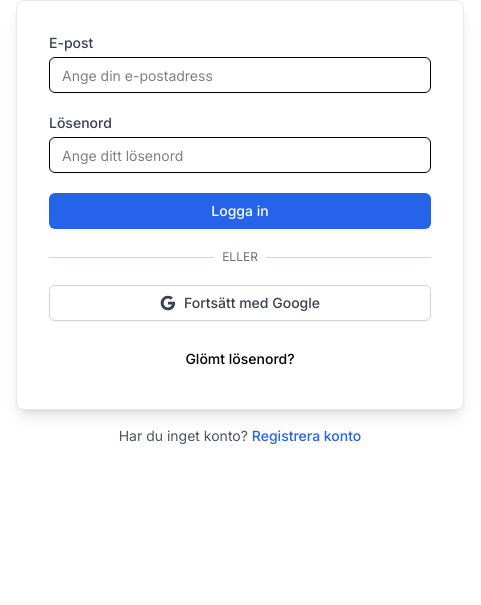
Test: LoginForm Error Handling › shows forgot password form when user clicks forgot password button in error
The image size is (481, 605).
// Fill in form and submit to trigger error
In the field labelled "E-post": (240, 75) [49, 57, 431, 93], type "test@example.com"
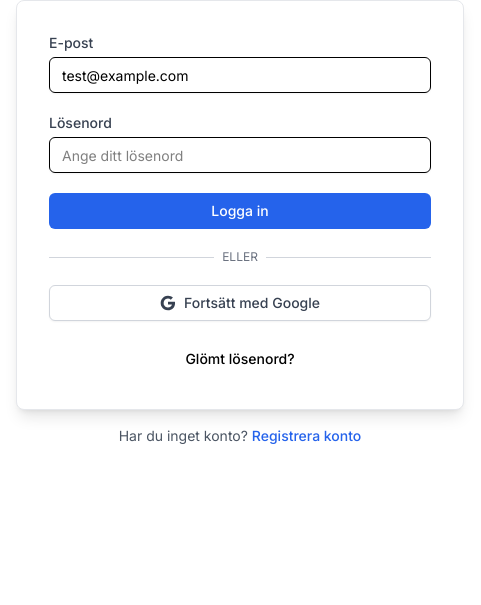
In the password field labelled "Lösenord": (240, 155) [49, 137, 431, 173], type "wrongpassword"
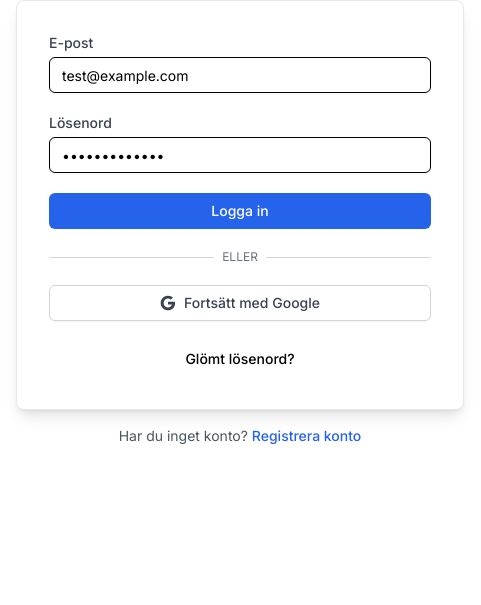
Click the button "Logga in": (240, 211) [49, 193, 431, 229]
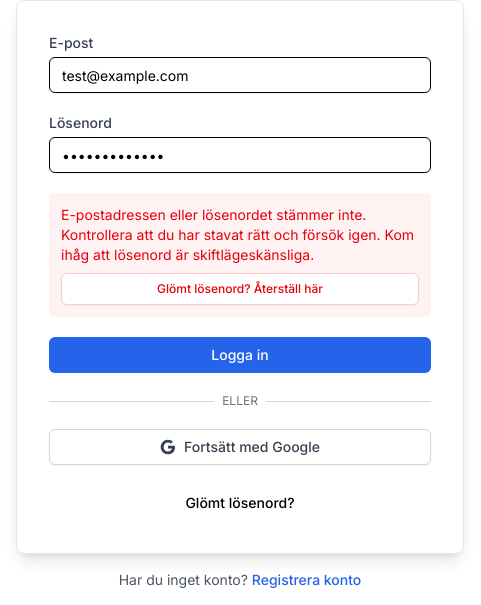
Now the button "Glömt lösenord? Återställ här" is shown
// Click forgot password button
Click the button "Glömt lösenord? Återställ här": (240, 289) [61, 273, 419, 305]
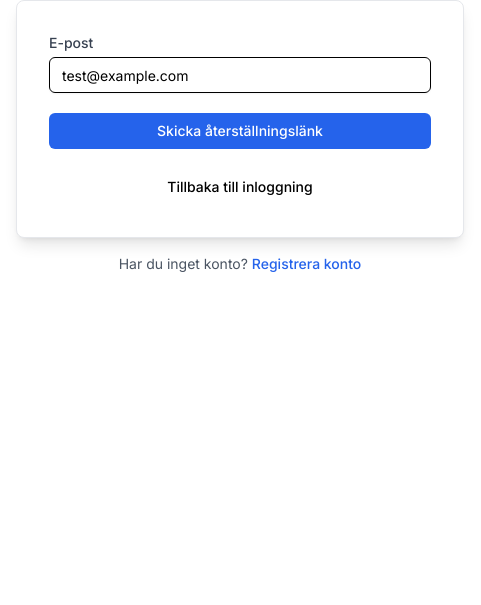
Now the button "Skicka återställningslänk" is shown, box [49, 113, 431, 149]
Now the label labelled "Lösenord" is gone
